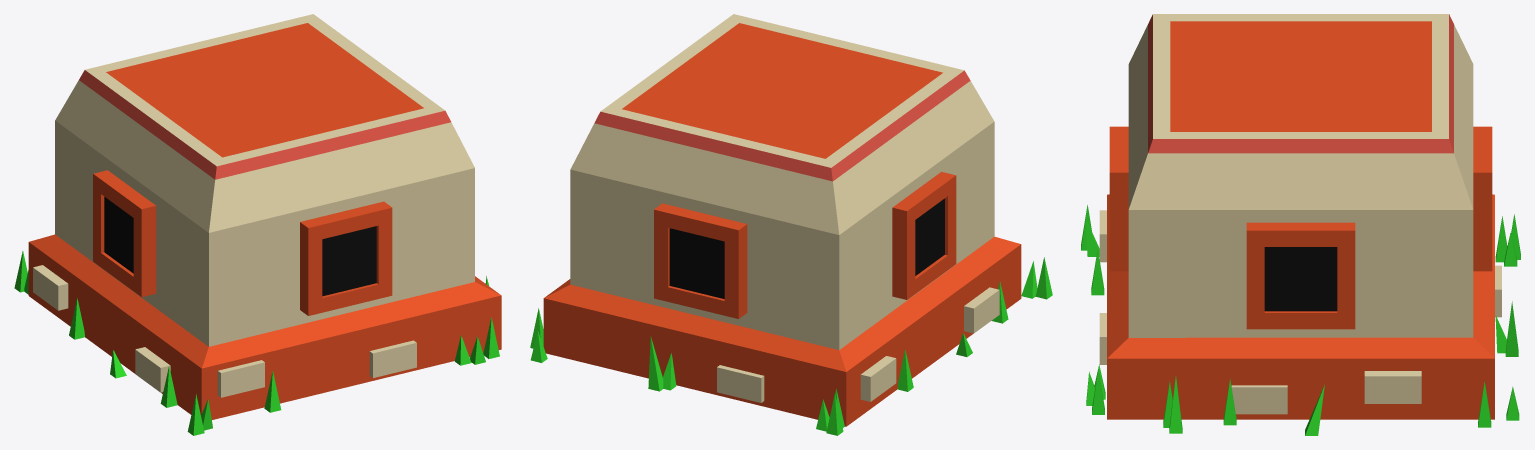
Rendered from tower base 1.fbx.
3 renders of one model, left to right at view 1: azimuth 30°, elevation 25°; view 2: azimuth 150°, elevation 25°; view 3: azimuth 270°, elevation 25°, orthographic. The views are drawn at different scales.
Parts seen in each view (by area): view 1: Turret Tower 01; view 2: Turret Tower 01; view 3: Turret Tower 01.
Part boxes in pixels (x1,y1,x2,y2): Turret Tower 01: [14, 14, 501, 435]; Turret Tower 01: [530, 14, 1052, 435]; Turret Tower 01: [1081, 14, 1520, 435].
Size of the model in its own units: 397 by 253 by 386.
